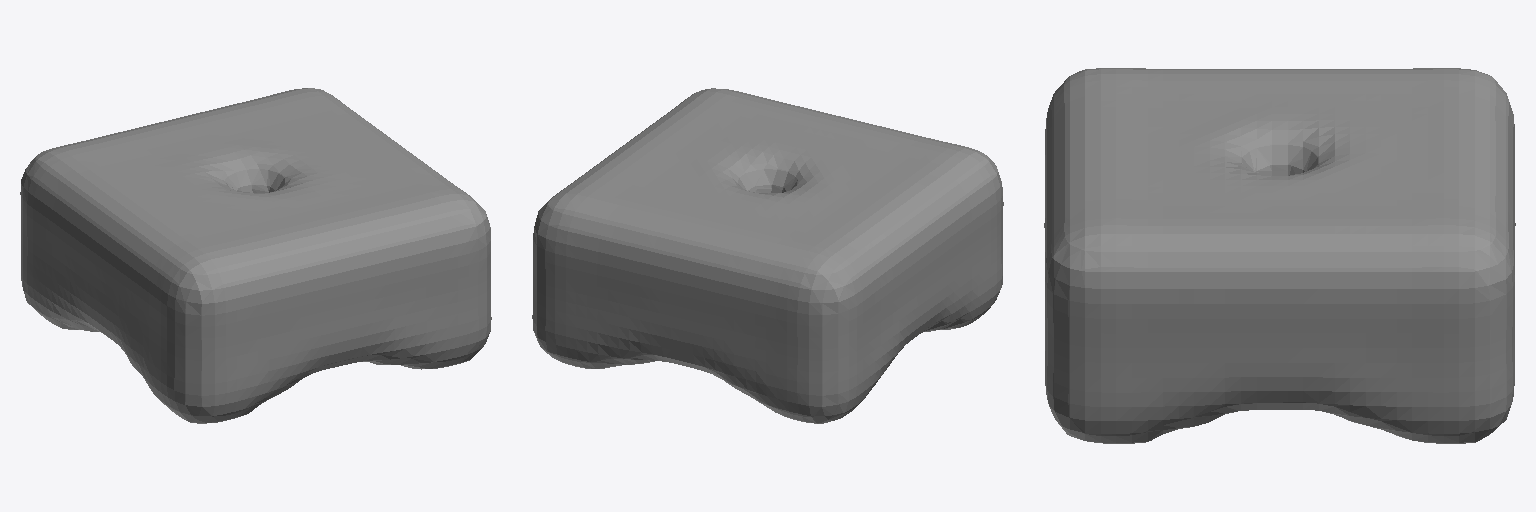
The robot description file, URDF, robot "cube.urdf":
<?xml version="0.0" ?> 
<robot name="cube.urdf"> 
<link name="legobrick"> 
<contact> 
<lateral_friction value="5.0"/> 
<rolling_friction value="0.0"/> 
<contact_cfm value="0.0"/> 
<contact_erp value="1.0"/> 
</contact> 
<inertial> 
<origin rpy="0 0 0" xyz="0.0 0.0 0.0"/> 
<mass value=".01"/> 
<inertia ixx="1" ixy="0" ixz="0" iyy="1" iyz="0" izz="1"/> 
</inertial> 
<visual> 
<origin rpy="1.570796 0 0" xyz="-0.025844375170920243 0.025847108043968333 -0.040275497376863846"/> 
<geometry> 
<mesh filename="R06_3.obj" scale="0.0005600534678565336 0.0005600534678565336 0.0005600534678565336"/> 
</geometry> 
<material name="yellow"> 
<color rgba="0.6 0.6 0.6 1"/> 
</material> 
</visual> 
<collision> 
<origin rpy="1.570796 0 0" xyz="-0.025844375170920243 0.025847108043968333 -0.040275497376863846"/> 
<geometry> 
<mesh filename="R06_3.obj" scale="0.0005600534678565336 0.0005600534678565336 0.0005600534678565336"/> 
</geometry> 
</collision> 
</link> 
</robot>

--- Render facts (derived) ---
Views: 3 orthographic renders of the robot side by side, from view 1: azimuth 30°, elevation 25°; view 2: azimuth 150°, elevation 25°; view 3: azimuth 270°, elevation 25°.
Robot: cube.urdf — 1 links, 0 joints (none); root link legobrick; default pose: all joints at 0.
Visible links, largest first — view 1: legobrick; view 2: legobrick; view 3: legobrick.
Boxes of the visible links, x1,y1,x2,y2 form: legobrick: (20,88,491,423); legobrick: (532,88,1003,423); legobrick: (1044,68,1515,443).
Bounding box of the posed robot: 0.056 × 0.056 × 0.0281 m (x, y, z).
1 mesh visuals loaded from 1 distinct referenced files (1 OBJ).
